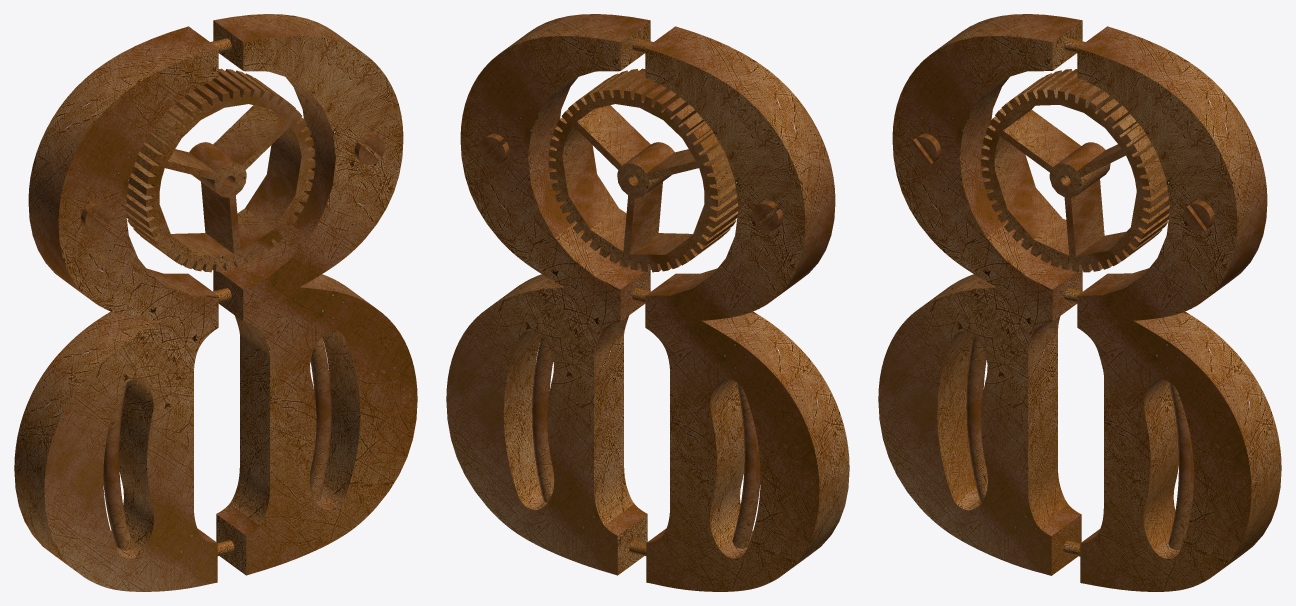
3 renders of one model, left to right at view 1: azimuth 30°, elevation 25°; view 2: azimuth 150°, elevation 25°; view 3: azimuth 330°, elevation 25°, orthographic.
Visible parts, largest first — view 1: 027, Cogwheel_364, Tube_695, Tube_603, Screw_699, Screw_711; view 2: 027, Cogwheel_364, Tube_695, Tube_603, Screw_699, Screw_711; view 3: 027, Cogwheel_364, Tube_603, Tube_695, Screw_711, Screw_699.
Boxes of the visible parts, x1,y1,x2,y2 form: 027: [14, 14, 417, 591]; Cogwheel_364: [125, 68, 315, 272]; Tube_695: [309, 337, 331, 501]; Tube_603: [103, 382, 131, 548]; Screw_699: [81, 200, 111, 231]; Screw_711: [354, 134, 384, 164]; 027: [446, 14, 849, 591]; Cogwheel_364: [548, 68, 738, 272]; Tube_695: [532, 336, 554, 502]; Tube_603: [732, 382, 760, 548]; Screw_699: [752, 200, 782, 231]; Screw_711: [479, 134, 509, 164]; 027: [878, 14, 1281, 591]; Cogwheel_364: [981, 69, 1169, 272]; Tube_603: [966, 336, 987, 501]; Tube_695: [1168, 382, 1194, 549]; Screw_711: [1184, 200, 1214, 231]; Screw_699: [910, 133, 940, 164].
Size of the model in its own units: 71.74 by 98.09 by 12.89.
Materials: 1 (1 with a texture image).
